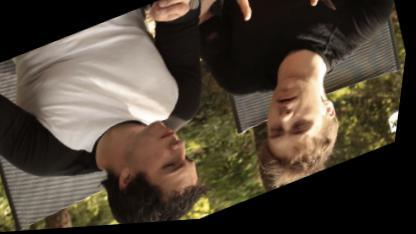knife: (287, 0, 348, 36)
